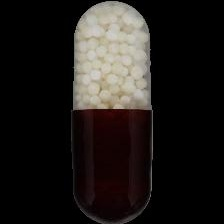55289-302: (0, 0, 224, 224)
